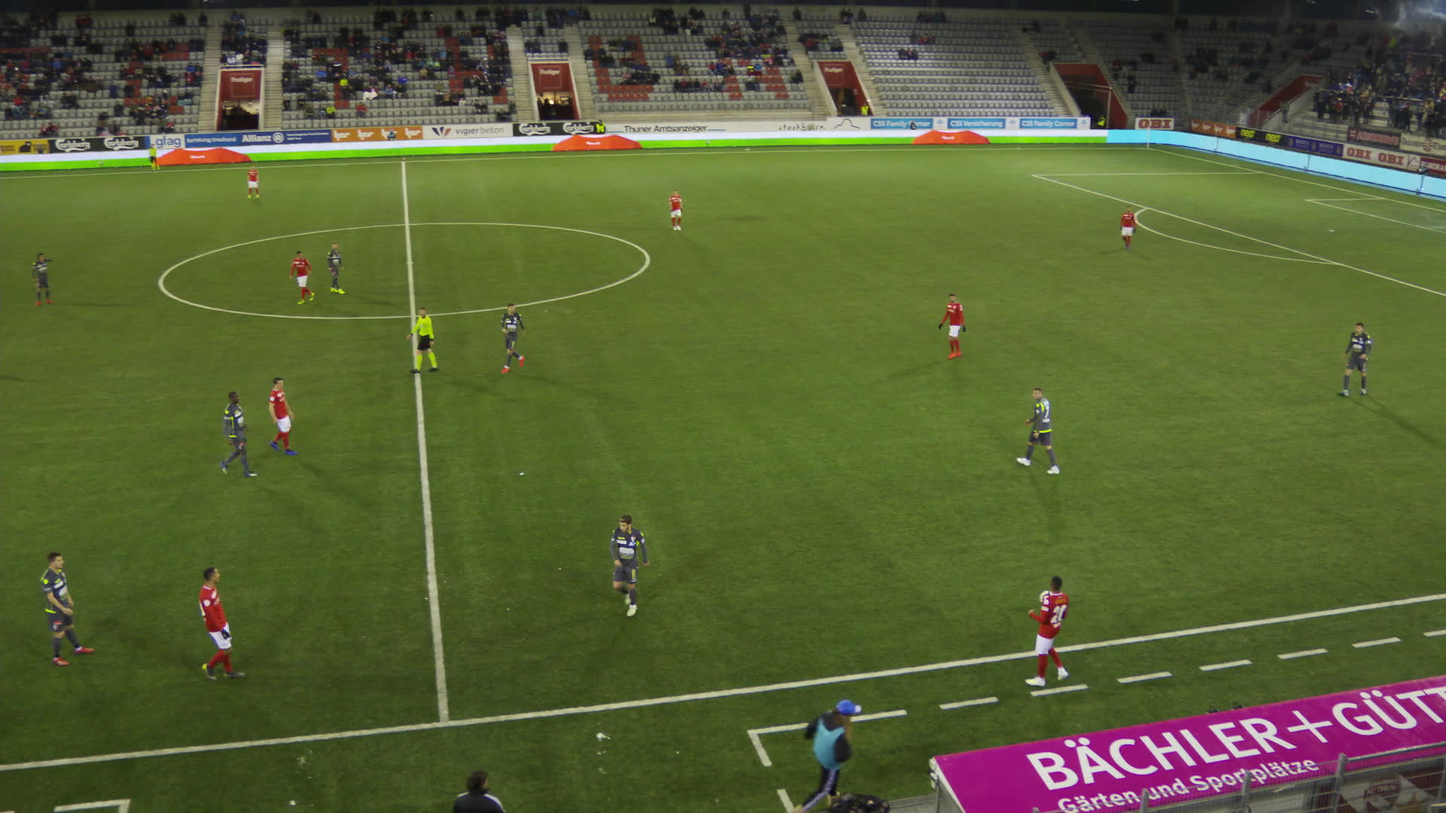ball: (1039, 589, 1049, 604)
player: (38, 550, 94, 666), (194, 565, 244, 683), (1020, 574, 1070, 685), (606, 513, 651, 618), (1016, 387, 1057, 475), (221, 390, 255, 478), (1337, 319, 1371, 396), (267, 376, 297, 456), (497, 301, 527, 372), (939, 293, 966, 358), (288, 250, 314, 303), (29, 252, 53, 306), (325, 241, 343, 294), (1118, 204, 1136, 248), (667, 189, 683, 230), (245, 165, 258, 198)
referee: (410, 305, 435, 373), (148, 145, 159, 171)
